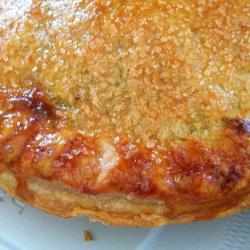apple_pie: (1, 1, 247, 223)
